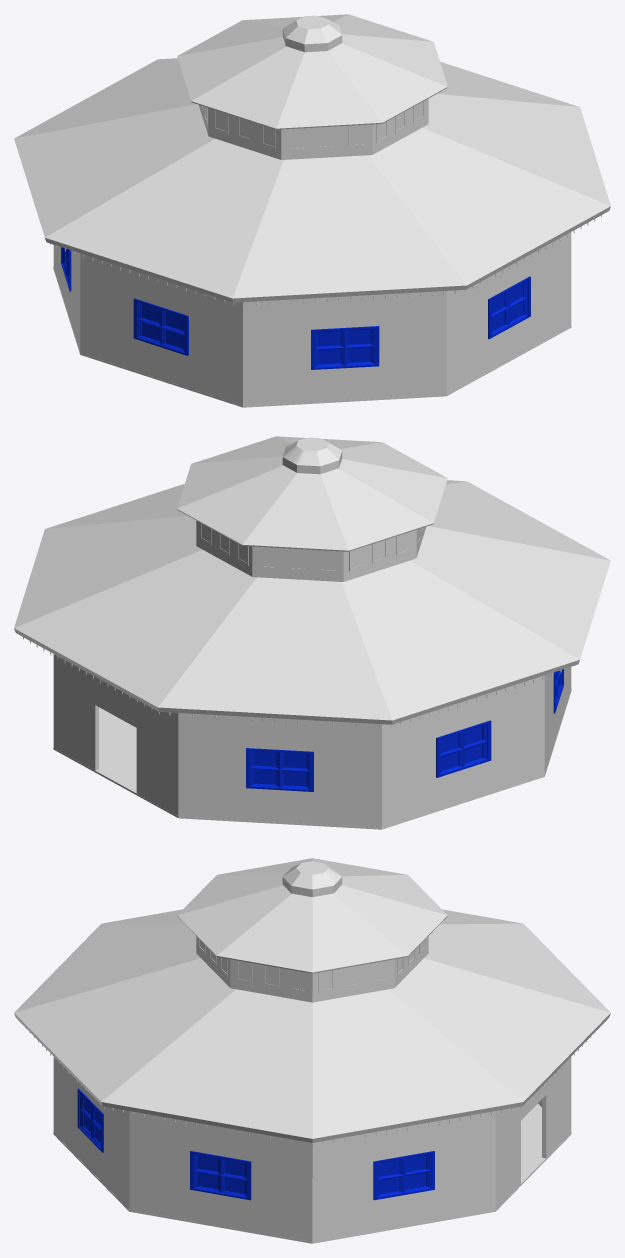
File: Hall2.fbx
3 views of the same model, one above another, from view 1: azimuth 30°, elevation 25°; view 2: azimuth 150°, elevation 25°; view 3: azimuth 270°, elevation 25° (orthographic). The views are drawn at different scales.
Visible parts, largest first — view 1: Circle; view 2: Circle; view 3: Circle.
Boxes of the visible parts, x1,y1,x2,y2 form: Circle: (14, 14, 610, 407); Circle: (14, 436, 610, 829); Circle: (14, 858, 610, 1243).
Size of the model in its own units: 3227 by 1589 by 3227.
